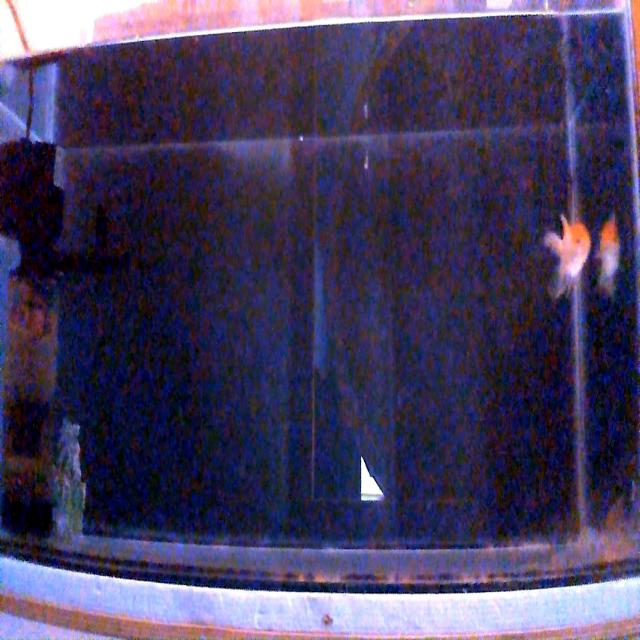fish: (543, 210, 591, 296), (597, 215, 621, 297)
